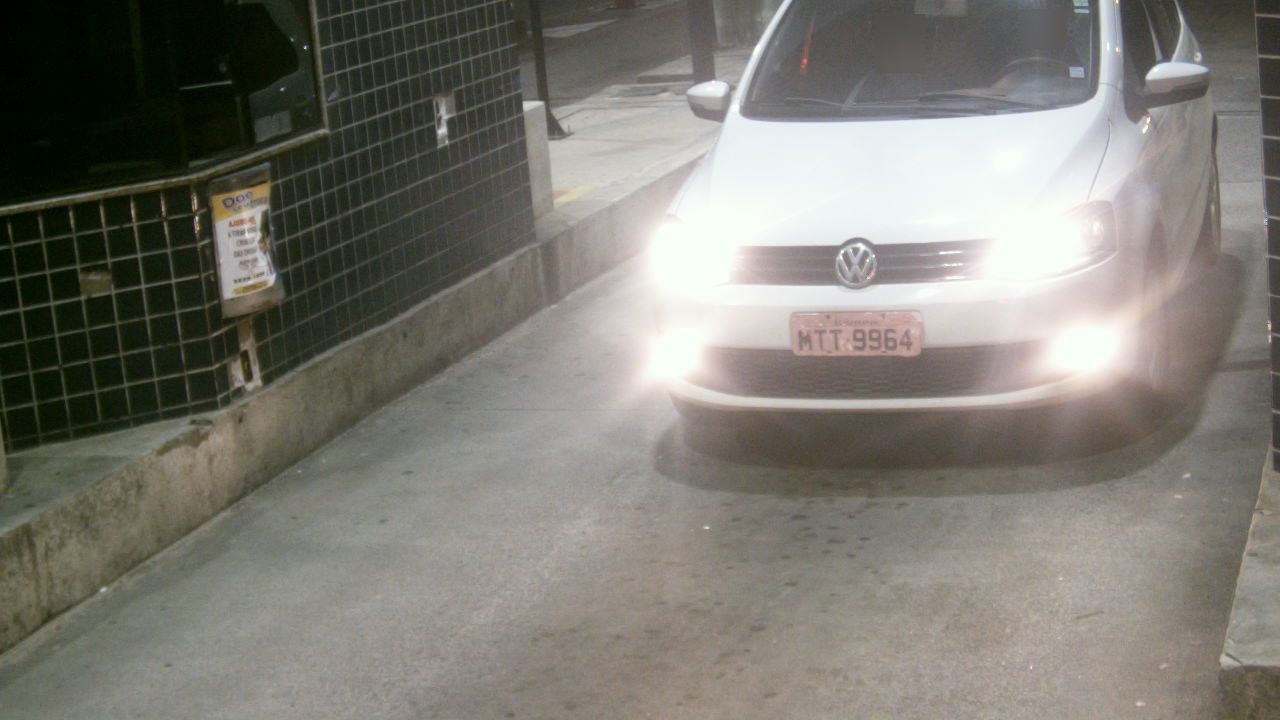placa: (789, 311, 922, 357)
